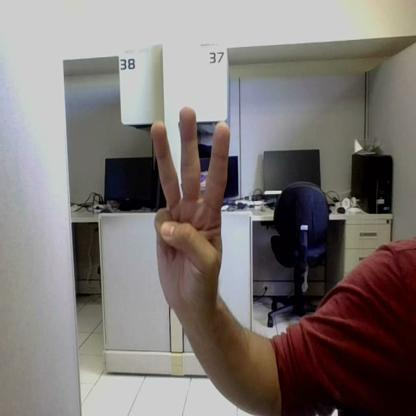W: (151, 108, 229, 307)
